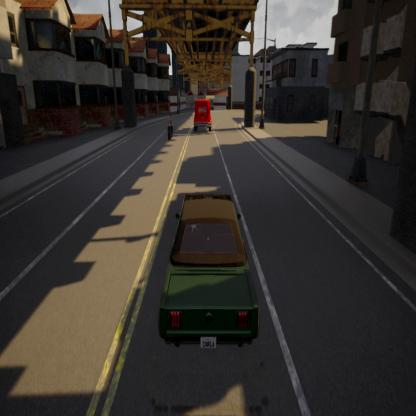Cars: (156, 187, 266, 357), (189, 94, 215, 135)
